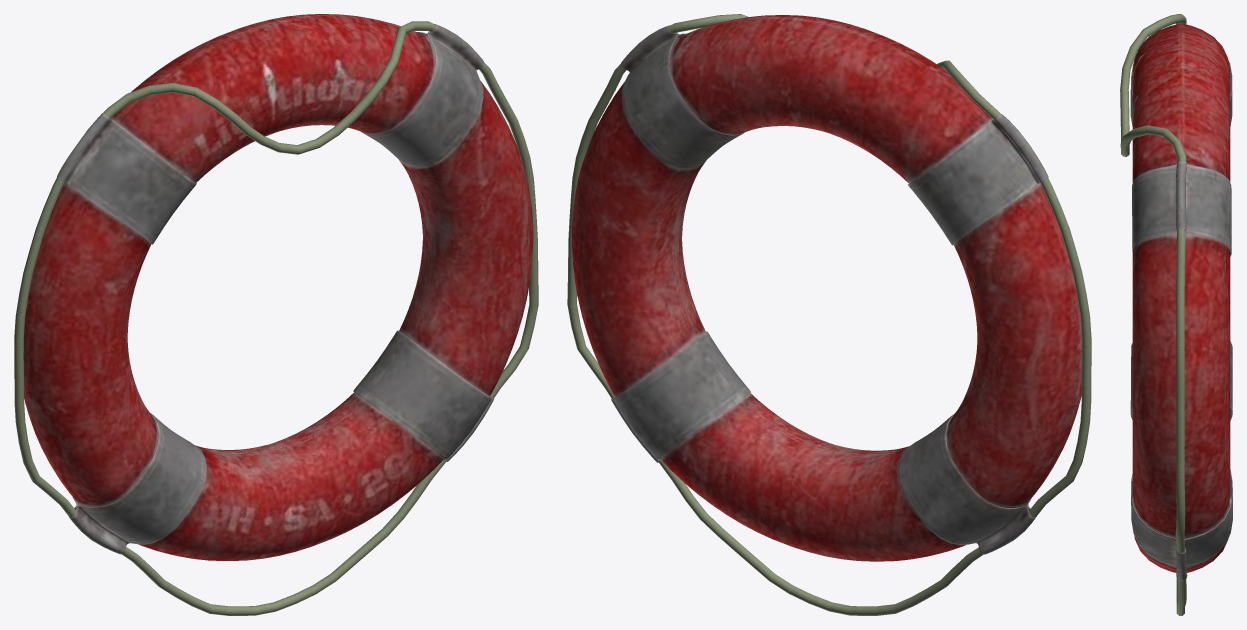
The model's file is lifebuoy.glb.
The picture shows the model from 3 angles, left to right: view 1: azimuth 30°, elevation 25°; view 2: azimuth 150°, elevation 25°; view 3: azimuth 270°, elevation 25°; orthographic projection. The views are drawn at different scales.
Visible parts, largest first — view 1: lifebuoy; view 2: lifebuoy; view 3: lifebuoy.
Part boxes in pixels (x1,y1,x2,y2): lifebuoy: (14,14,538,615); lifebuoy: (567,14,1091,615); lifebuoy: (1120,14,1232,615).
Bounding box in the file's own units: 0.7831 × 0.8412 × 0.1551.
Materials: 1 (1 with a texture image).
